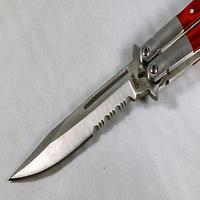knife: (5, 10, 193, 186)
